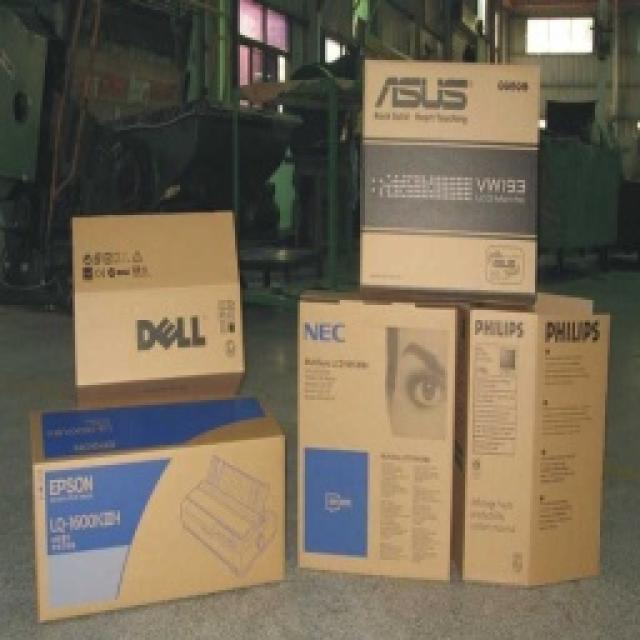box: (354, 39, 538, 307), (30, 408, 291, 589), (302, 280, 455, 570), (464, 296, 608, 590), (60, 212, 249, 400)
